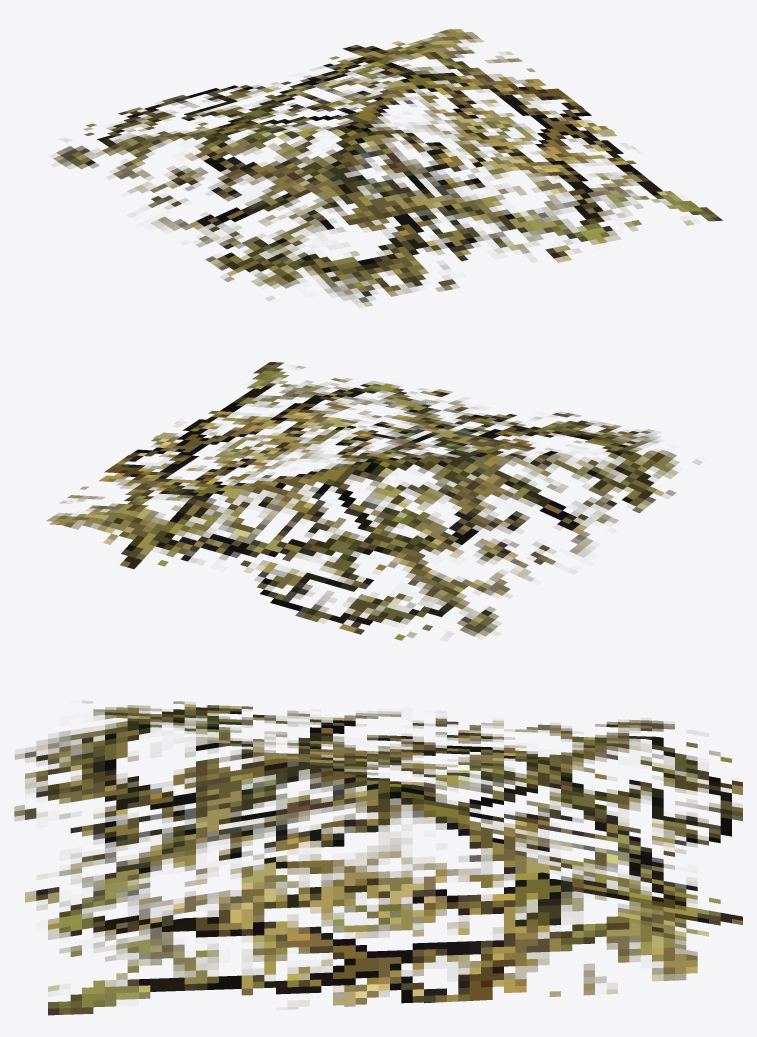
The model's file is Environment - Prop - Vines Brown - PMvines02.glb.
3 views of the same model, one above another, from view 1: azimuth 30°, elevation 25°; view 2: azimuth 150°, elevation 25°; view 3: azimuth 270°, elevation 25° (orthographic). The views are drawn at different scales.
Visible parts, largest first — view 1: PMVINES02; view 2: PMVINES02; view 3: PMVINES02.
Boxes of the visible parts, box(x1,y1,x2,y2) form: PMVINES02: box(53, 29, 722, 306); PMVINES02: box(46, 362, 702, 640); PMVINES02: box(14, 701, 742, 1015).
Bounding box in the file's own units: 24.72 × 2.84 × 24.99.
1 material, 1 textured.
